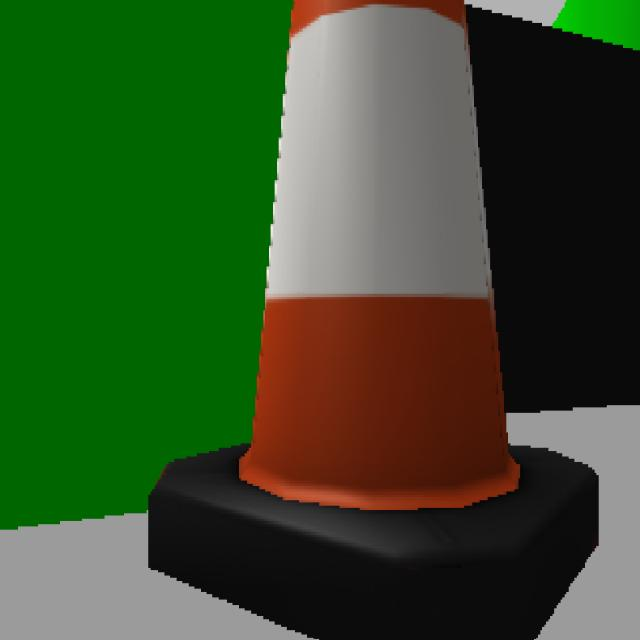Traffic Cone: (149, 2, 599, 640)
